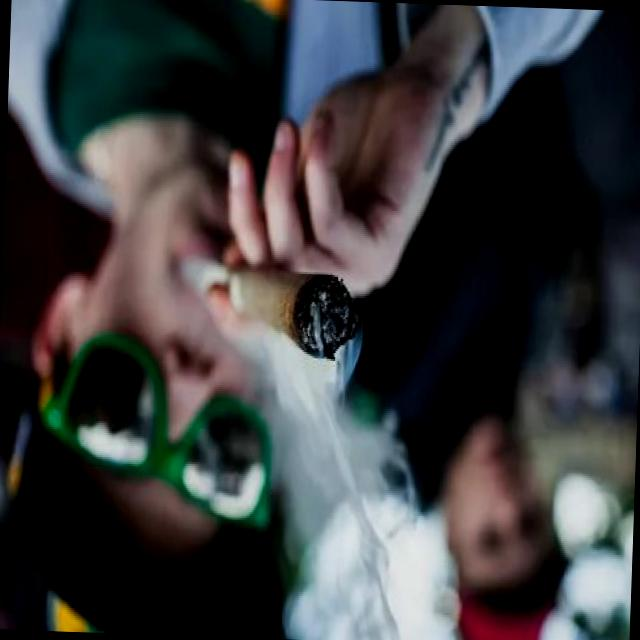cigarette: (218, 264, 372, 362)
